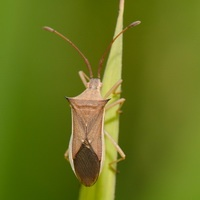insect: (43, 21, 140, 186)
